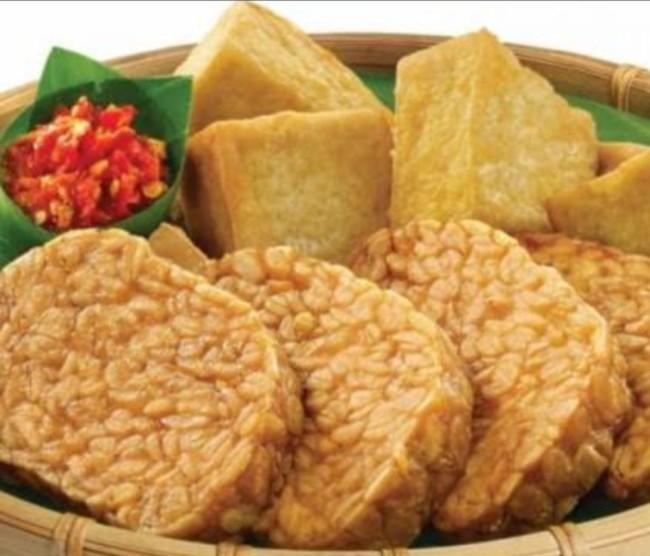buah_sayur_vitA: (34, 120, 135, 202)
kacang_legume: (16, 262, 164, 478), (194, 123, 377, 242), (485, 292, 578, 502), (300, 320, 410, 491), (420, 63, 518, 211), (541, 151, 634, 229), (223, 33, 301, 109)
